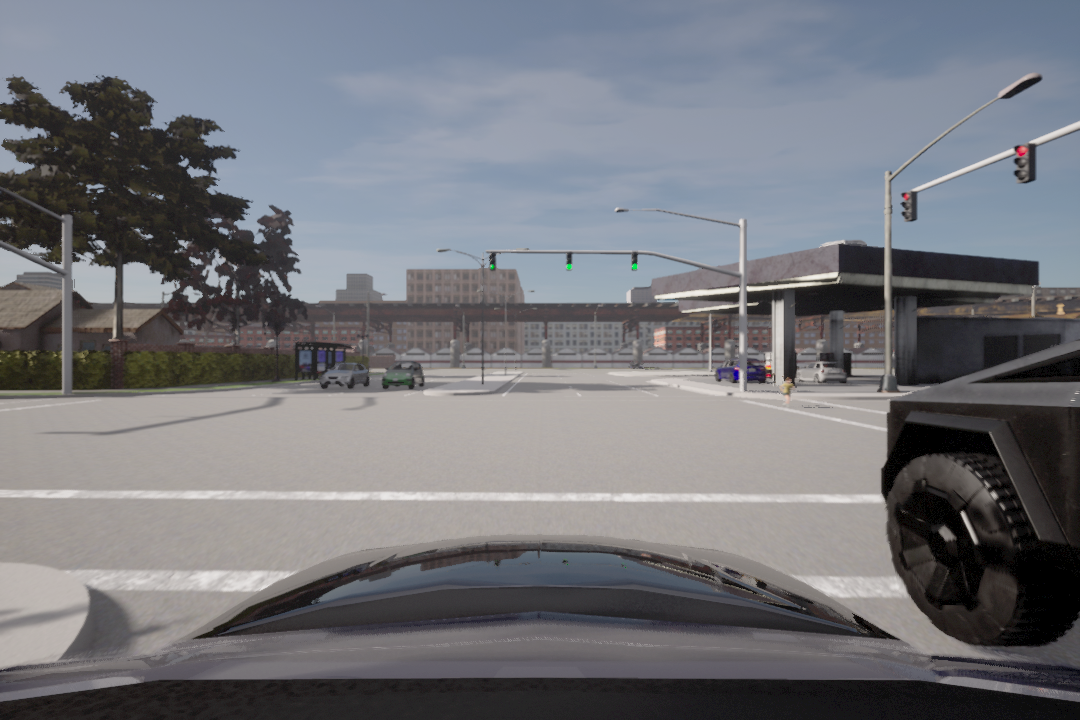TrafficLight: (1013, 141, 1037, 187), (901, 189, 917, 225), (630, 249, 640, 274), (562, 251, 574, 271), (487, 248, 497, 271)
